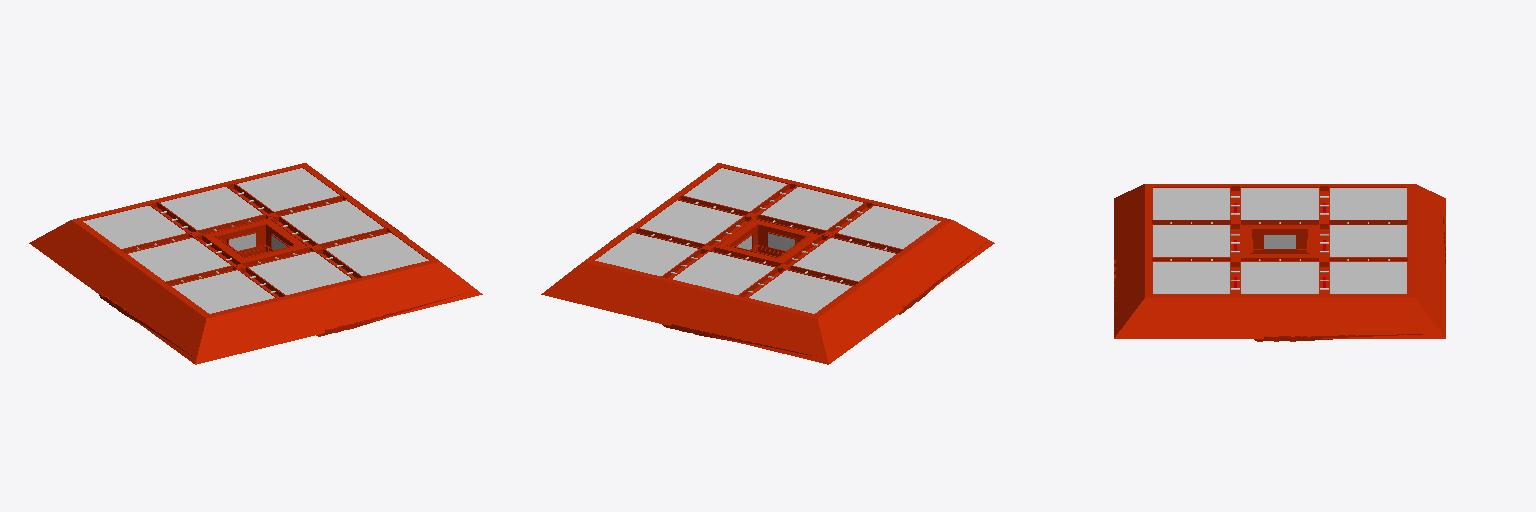
Rendered from wall_one.obj.
3 renders of one model, left to right at view 1: azimuth 30°, elevation 25°; view 2: azimuth 150°, elevation 25°; view 3: azimuth 270°, elevation 25°, orthographic.
Parts seen in each view (by area): view 1: Wall_Cube.003, PanelsLights_Cube.001; view 2: Wall_Cube.003, PanelsLights_Cube.001; view 3: Wall_Cube.003, PanelsLights_Cube.001.
Part boxes in pixels (x1,y1,x2,y2): Wall_Cube.003: (29,163,482,364); PanelsLights_Cube.001: (83,168,428,313); Wall_Cube.003: (541,163,994,364); PanelsLights_Cube.001: (595,168,940,313); Wall_Cube.003: (1114,184,1445,341); PanelsLights_Cube.001: (1153,188,1406,293).
Bounding box in the file's own units: 2.46 × 0.25 × 2.46.